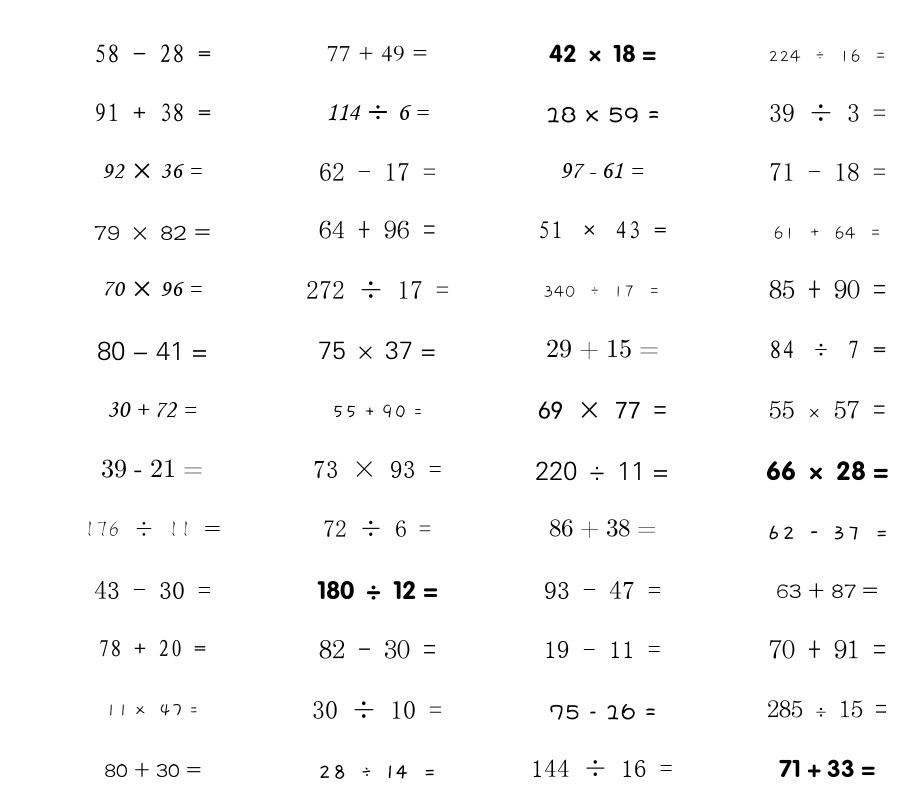MQ: (306, 280, 449, 299), (535, 461, 669, 481), (531, 759, 673, 777), (312, 700, 442, 719), (766, 461, 889, 481), (317, 580, 438, 600), (546, 339, 659, 360), (769, 279, 886, 299), (319, 639, 436, 659), (769, 639, 886, 659), (538, 221, 667, 239), (538, 401, 667, 419), (318, 341, 436, 360), (94, 44, 211, 63), (94, 103, 211, 122), (319, 162, 436, 181), (769, 162, 886, 181), (319, 220, 436, 239), (769, 340, 886, 359), (769, 400, 886, 419), (97, 341, 208, 361), (313, 461, 442, 478), (84, 521, 221, 537), (767, 700, 887, 718), (549, 519, 656, 539), (769, 104, 886, 122), (94, 581, 211, 599), (544, 581, 661, 599), (549, 44, 656, 63), (544, 641, 661, 658), (545, 106, 660, 123), (98, 639, 206, 657), (101, 459, 203, 478), (766, 525, 889, 540), (323, 520, 431, 537), (779, 759, 875, 778), (549, 703, 656, 720), (318, 764, 437, 779), (94, 225, 211, 240), (326, 104, 429, 121), (776, 582, 878, 599), (327, 45, 428, 62), (768, 49, 887, 63), (102, 163, 202, 179), (102, 281, 202, 297), (104, 762, 201, 778), (543, 285, 661, 298), (773, 226, 882, 240), (107, 402, 197, 418), (560, 162, 644, 179), (332, 404, 423, 419), (105, 703, 199, 717)
